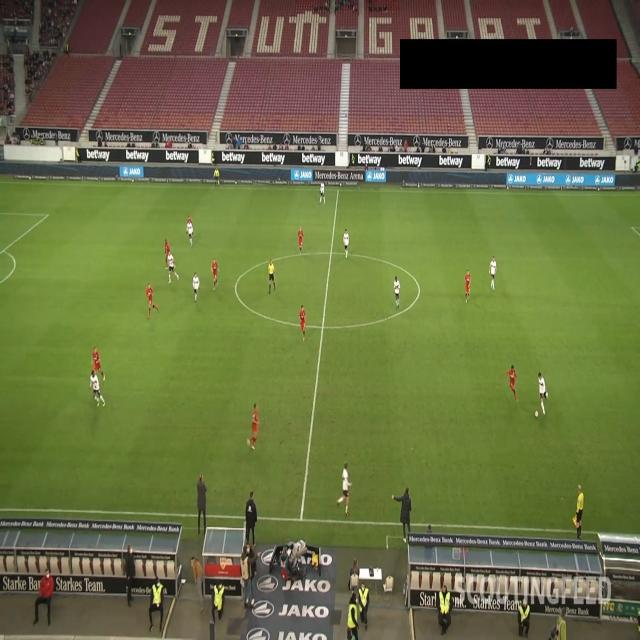ball: (533, 409, 539, 418)
